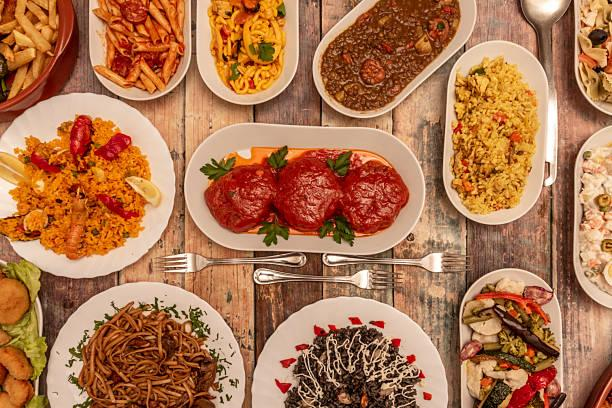Braised Crucian Carp: (1, 91, 174, 274), (185, 121, 421, 253), (46, 282, 238, 407), (249, 296, 447, 405), (442, 39, 550, 223), (312, 1, 470, 120), (458, 268, 566, 406), (195, 0, 301, 104), (88, 1, 190, 101)
